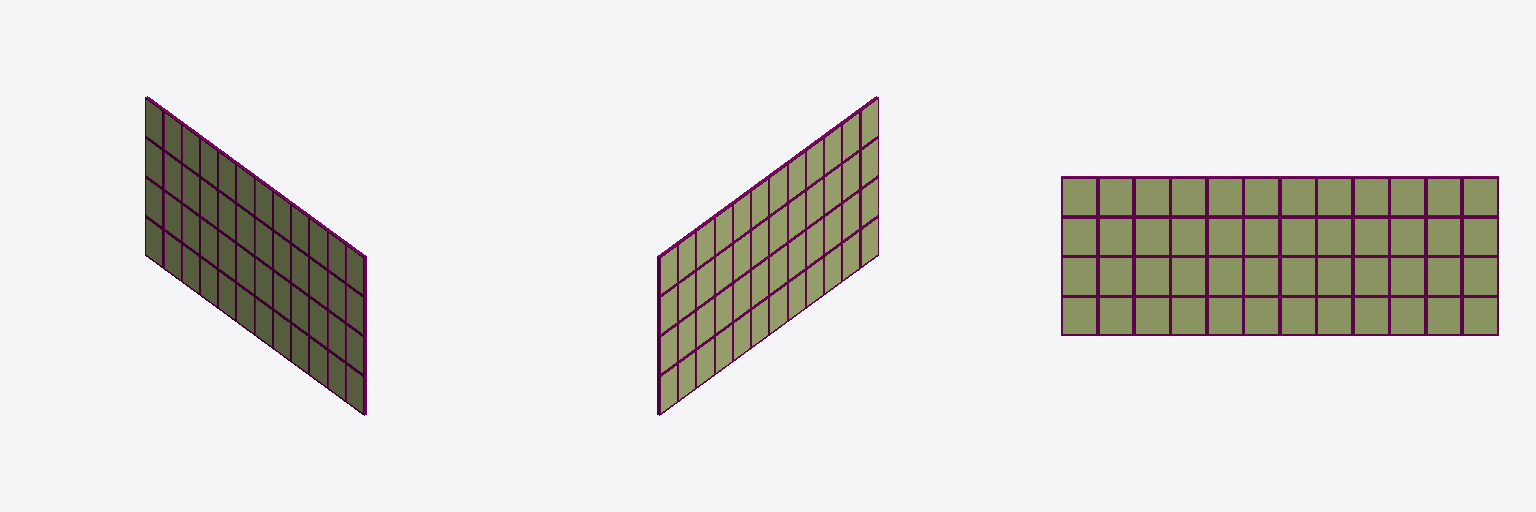
File: window_big.obj
The picture shows the model from 3 angles: view 1: azimuth 30°, elevation 25°; view 2: azimuth 150°, elevation 25°; view 3: azimuth 270°, elevation 25°; orthographic projection.
Visible parts, largest first — view 1: Object001, Plane001; view 2: Object001, Plane001; view 3: Object001, Plane001.
Part boxes in pixels (x1,y1,x2,y2): Object001: (146, 100, 362, 412); Plane001: (145, 96, 366, 415); Object001: (661, 100, 877, 412); Plane001: (657, 96, 878, 415); Object001: (1063, 179, 1496, 333); Plane001: (1061, 176, 1498, 335).
Bounding box in the file's own units: 0.04 × 2 × 5.